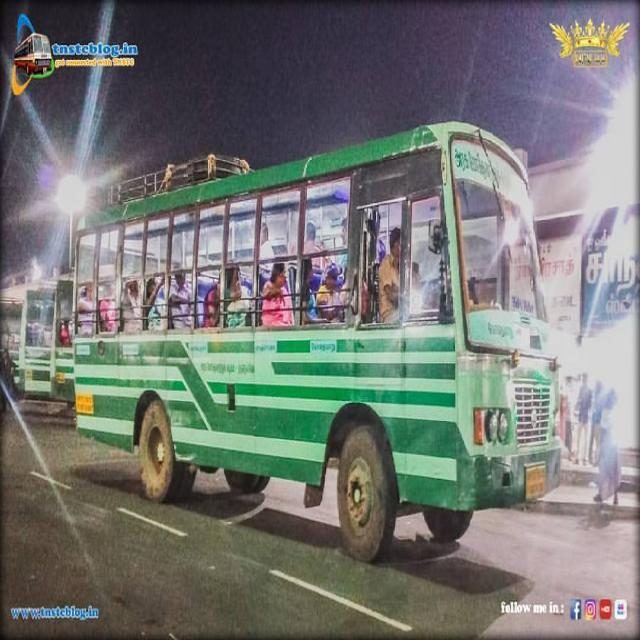Bus: (73, 119, 566, 574), (18, 276, 50, 396), (48, 270, 74, 414)
